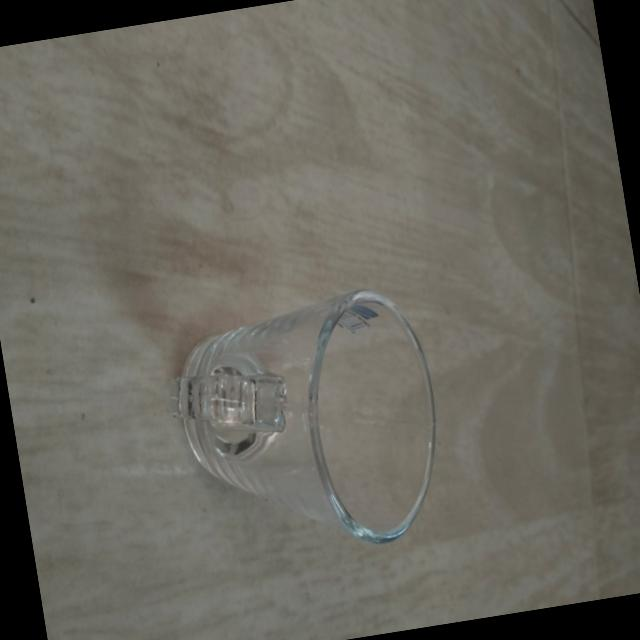glass-VX4N: (165, 282, 458, 573)
